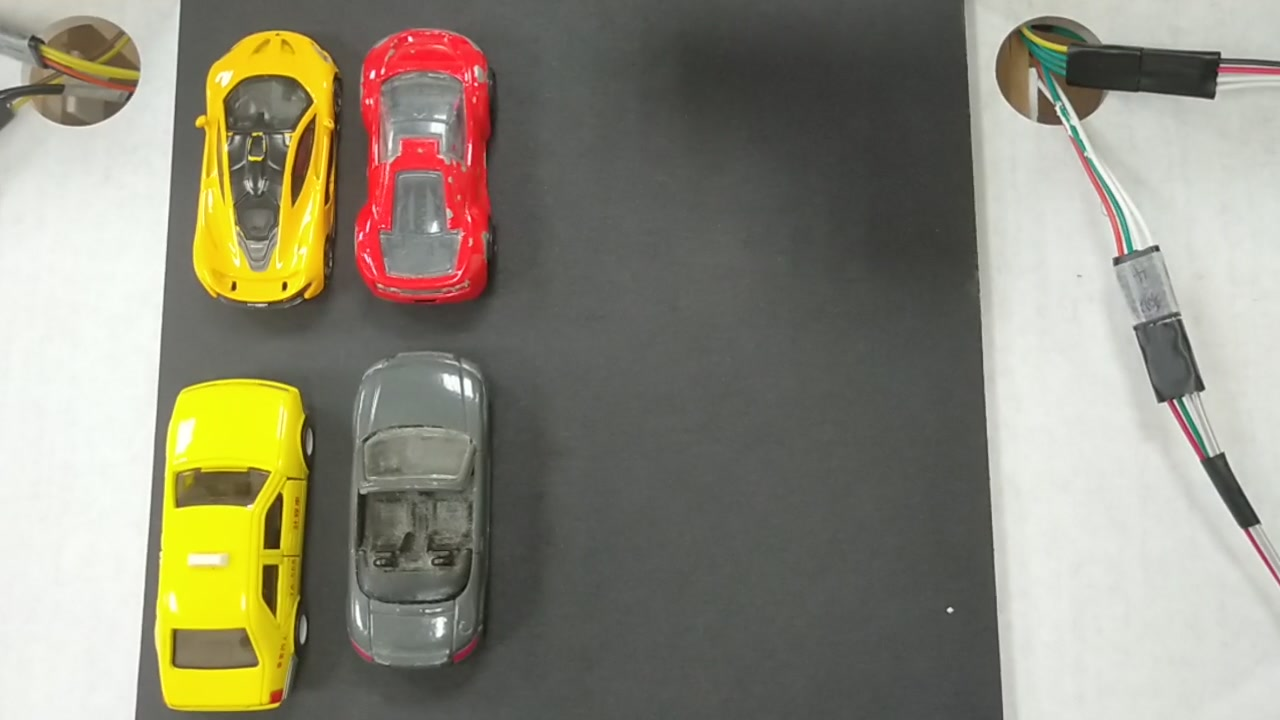car: (151, 373, 309, 719), (187, 29, 345, 301), (349, 360, 489, 663), (354, 32, 495, 298)
